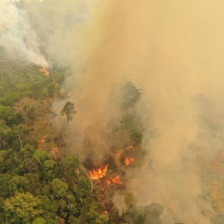incendio: (72, 137, 168, 200), (46, 54, 96, 152)
